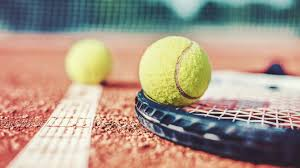tennis_ball: (138, 35, 211, 107), (64, 38, 110, 84)
